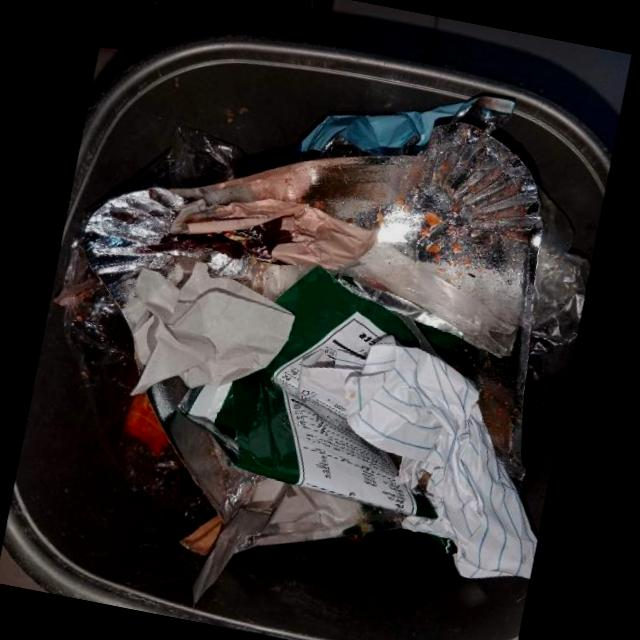bao_bi_thuc_pham: (187, 266, 463, 516)
giay: (298, 335, 538, 580), (122, 262, 296, 397), (170, 199, 377, 267)
tui_ni_long: (530, 187, 591, 355)
